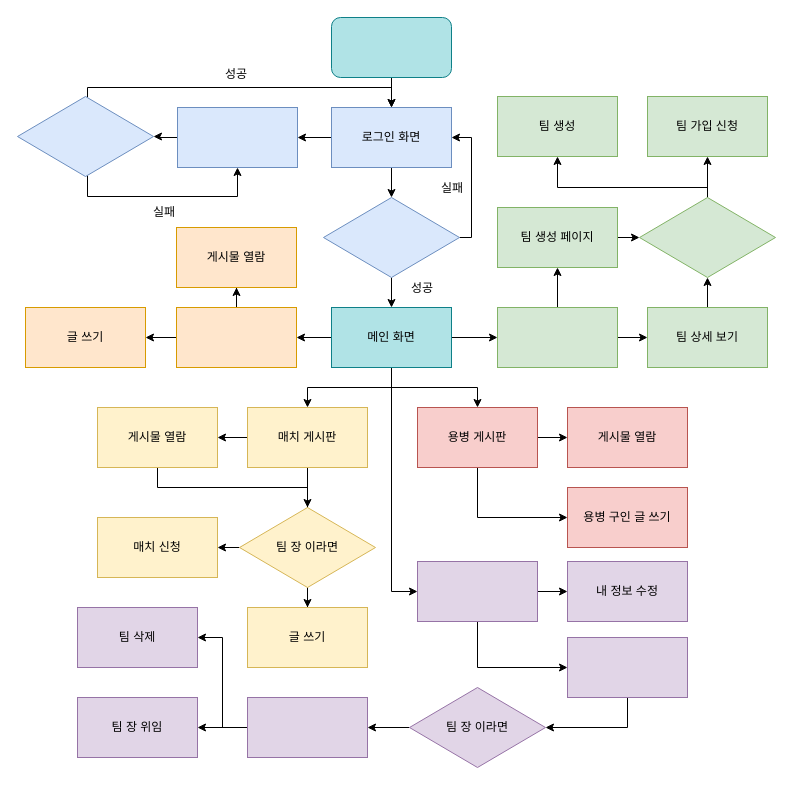
This 793x785 diagram has some shape labels left out. The centre of each missing label's shape, as x and y in pixels:
내 정보: (477,591)
로그인 시도: (391,237)
서비스 시작: (391,47)
소속 팀이 없다면: (707,237)
자유 게시판: (236,337)
팀 정보: (627,667)
팀 정보 수정: (307,727)
팀 페이지: (557,337)
회원가입 시도: (85,136)
회원가입 화면: (237,137)
